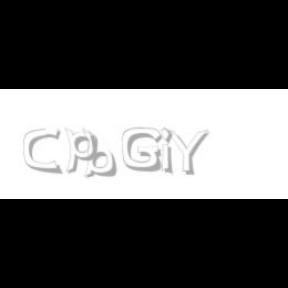C: (24, 128, 60, 174)
G: (122, 128, 162, 172)
Y: (163, 128, 209, 176)
b: (82, 128, 120, 178)
i: (160, 128, 176, 176)
p: (64, 128, 101, 174)
